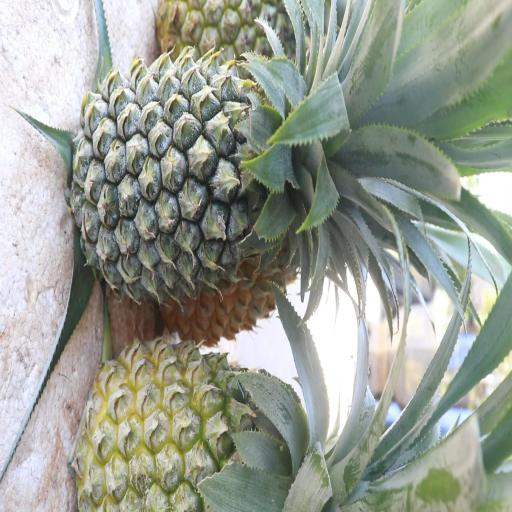------------------------------: (79, 331, 295, 512)
